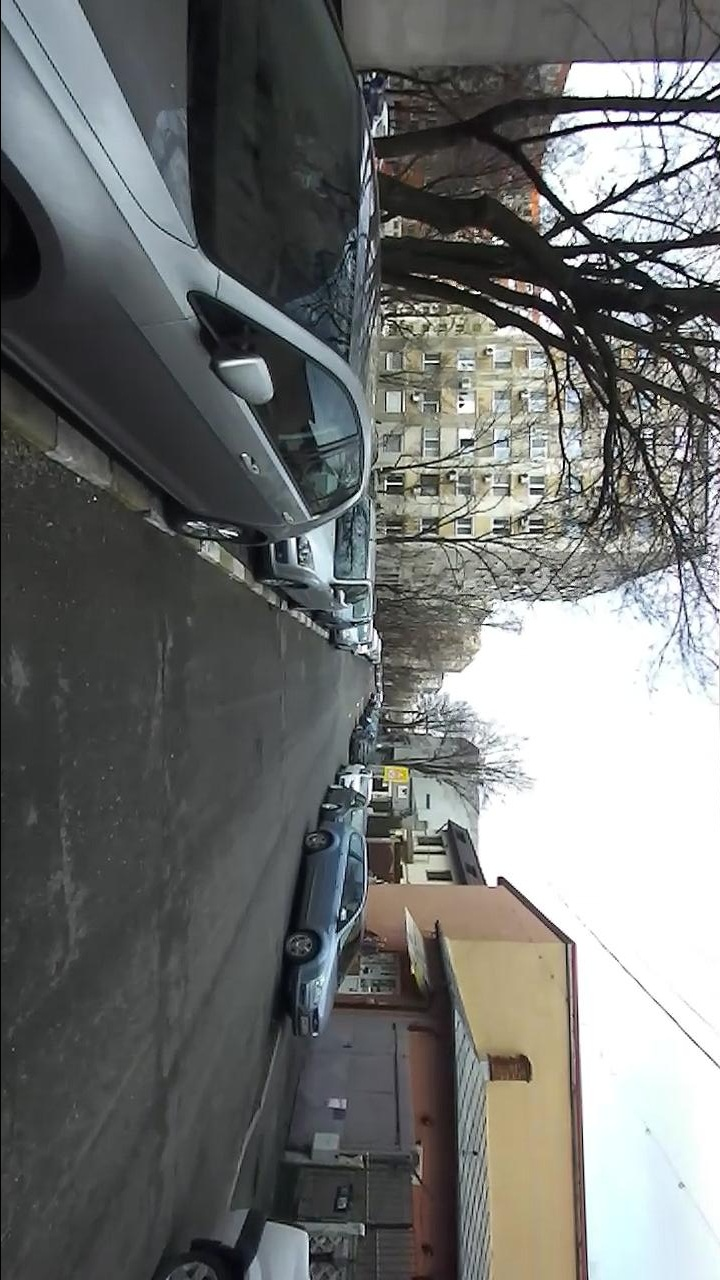pothole: (149, 622, 177, 726)
